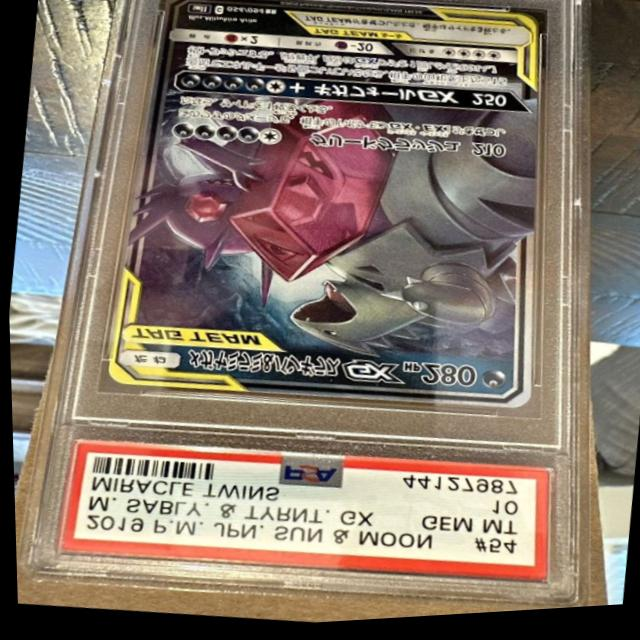card: (105, 0, 537, 414)
